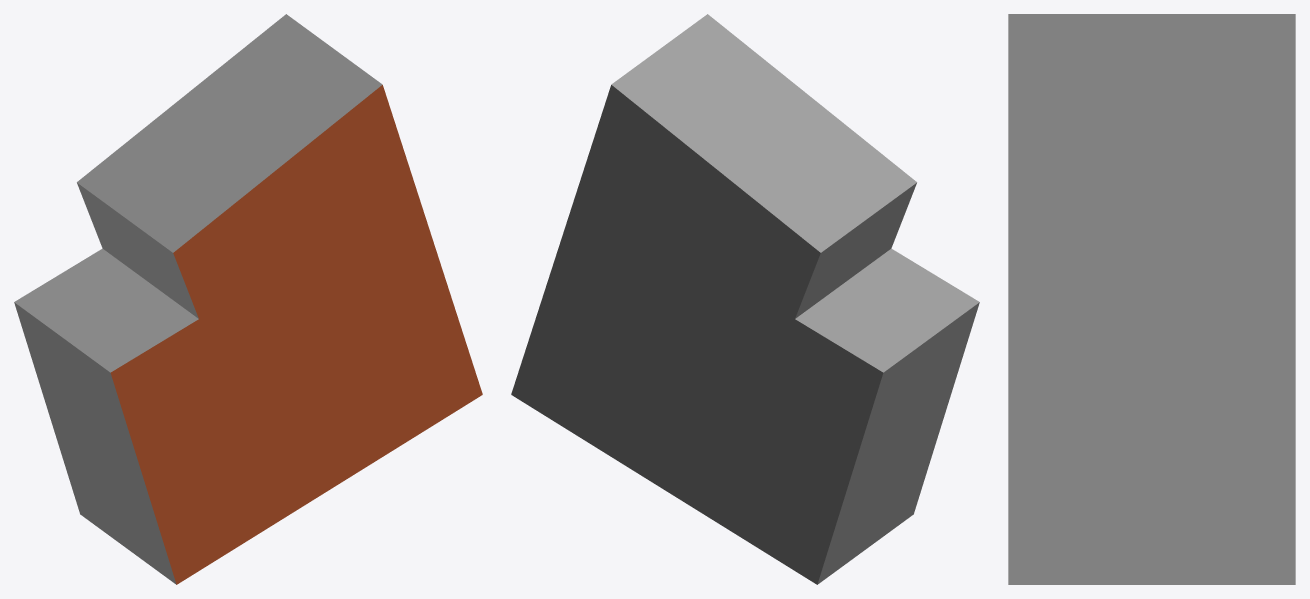
Rendered from construction_7219_assumed_A_Ruinas_h6m.obj.
The picture shows the model from 3 angles, left to right: view 1: azimuth 30°, elevation 25°; view 2: azimuth 150°, elevation 25°; view 3: azimuth 270°, elevation 25°; orthographic projection. The views are drawn at different scales.
Visible parts, largest first — view 1: construction_7219_assumed_A_Ruinas; view 2: construction_7219_assumed_A_Ruinas; view 3: construction_7219_assumed_A_Ruinas.
Boxes of the visible parts, x1,y1,x2,y2 form: construction_7219_assumed_A_Ruinas: (14, 14, 482, 584); construction_7219_assumed_A_Ruinas: (511, 14, 979, 584); construction_7219_assumed_A_Ruinas: (1008, 14, 1295, 584).
Size of the model in its own units: 13.38 by 15.45 by 6.
